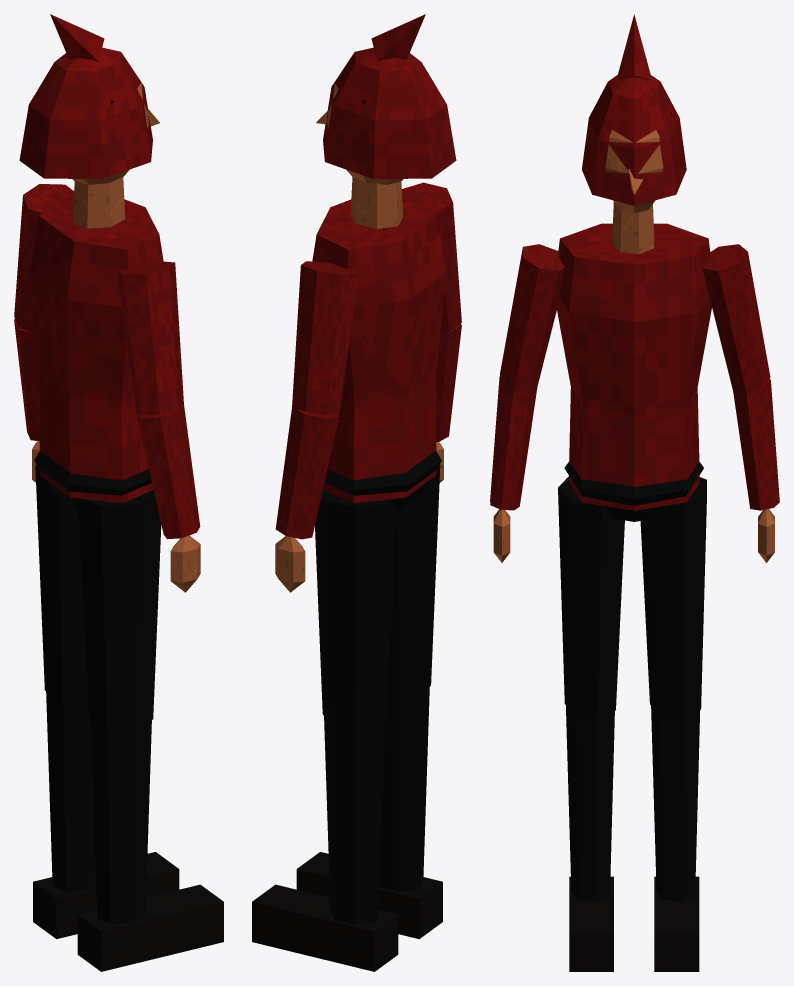
File: fanatico.glb
3 views of the same model, side by side, from view 1: azimuth 30°, elevation 25°; view 2: azimuth 150°, elevation 25°; view 3: azimuth 270°, elevation 25° (orthographic). The views are drawn at different scales.
Parts seen in each view (by area): view 1: torso, muslo_der, capucha, pierna_der, muslo_izq, pierna_izq, brazo_der, pie_der, antebrazo_der, pie_izq, brazo_izq, pelvis (+4 smaller); view 2: torso, muslo_izq, capucha, pierna_izq, muslo_der, pierna_der, brazo_izq, pie_izq, antebrazo_izq, pie_der, brazo_der, pelvis (+4 smaller); view 3: torso, muslo_der, muslo_izq, capucha, pierna_izq, pierna_der, brazo_izq, brazo_der, antebrazo_izq, antebrazo_der, pie_izq, pie_der (+5 smaller).
Part boxes in pixels (bbox=[...]): torso: bbox=[29, 190, 163, 503]; muslo_der: bbox=[78, 490, 161, 730]; capucha: bbox=[19, 14, 152, 179]; pierna_der: bbox=[91, 720, 151, 924]; muslo_izq: bbox=[35, 465, 87, 698]; pierna_izq: bbox=[46, 691, 96, 891]; brazo_der: bbox=[117, 261, 183, 415]; pie_der: bbox=[77, 884, 223, 971]; antebrazo_der: bbox=[136, 405, 200, 539]; pie_izq: bbox=[33, 852, 179, 939]; brazo_izq: bbox=[14, 184, 72, 332]; pelvis: bbox=[34, 451, 151, 509]; torso: bbox=[312, 190, 446, 503]; muslo_izq: bbox=[315, 490, 396, 730]; capucha: bbox=[323, 14, 456, 179]; pierna_izq: bbox=[324, 716, 384, 924]; muslo_der: bbox=[387, 463, 440, 698]; pierna_der: bbox=[379, 688, 429, 891]; brazo_izq: bbox=[292, 261, 358, 415]; pie_izq: bbox=[252, 884, 398, 971]; antebrazo_izq: bbox=[275, 406, 339, 539]; pie_der: bbox=[296, 852, 442, 939]; brazo_der: bbox=[401, 182, 461, 332]; pelvis: bbox=[324, 451, 441, 509]; torso: bbox=[557, 223, 711, 510]; muslo_der: bbox=[558, 476, 624, 717]; muslo_izq: bbox=[640, 477, 706, 717]; capucha: bbox=[582, 14, 686, 205]; pierna_izq: bbox=[651, 706, 699, 901]; pierna_der: bbox=[566, 705, 614, 901]; brazo_izq: bbox=[702, 244, 770, 392]; brazo_der: bbox=[500, 244, 564, 392]; antebrazo_izq: bbox=[733, 379, 779, 510]; antebrazo_der: bbox=[490, 377, 537, 510]; pie_izq: bbox=[654, 876, 699, 971]; pie_der: bbox=[569, 876, 613, 971].
Size of the model in its own units: 0.3 by 1.7 by 0.5.
Materials: 1 (1 with a texture image).
